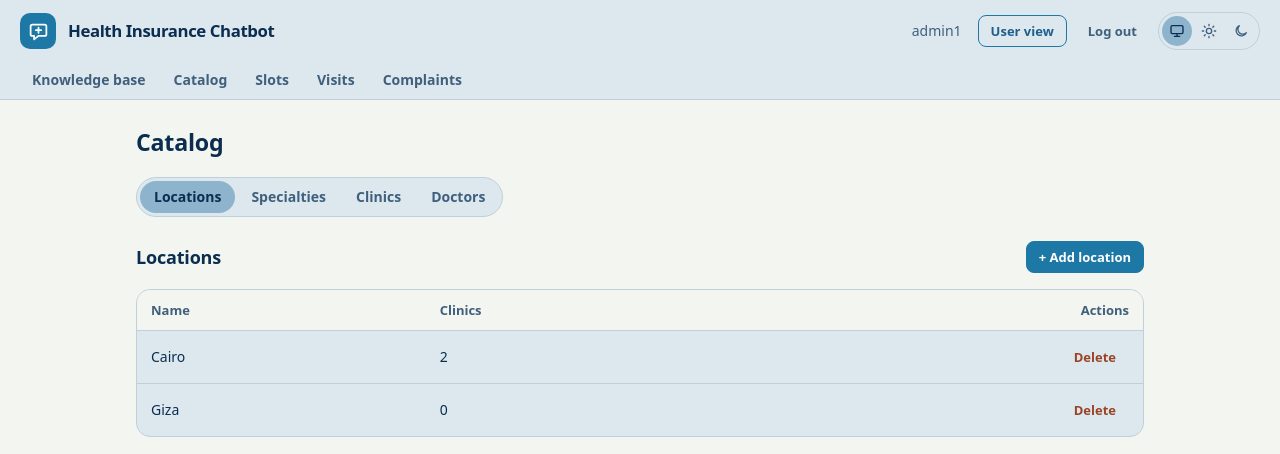
AdminCatalogPage › AP2: the tabs show which catalog list is open
The image size is (1280, 454).
Expected: the table with test id "locations-table" is shown, x1=137 y1=290 x2=1143 y2=436
Click the button with test id "tab-doctors" at (458, 197), box x1=417 y1=181 x2=499 y2=213
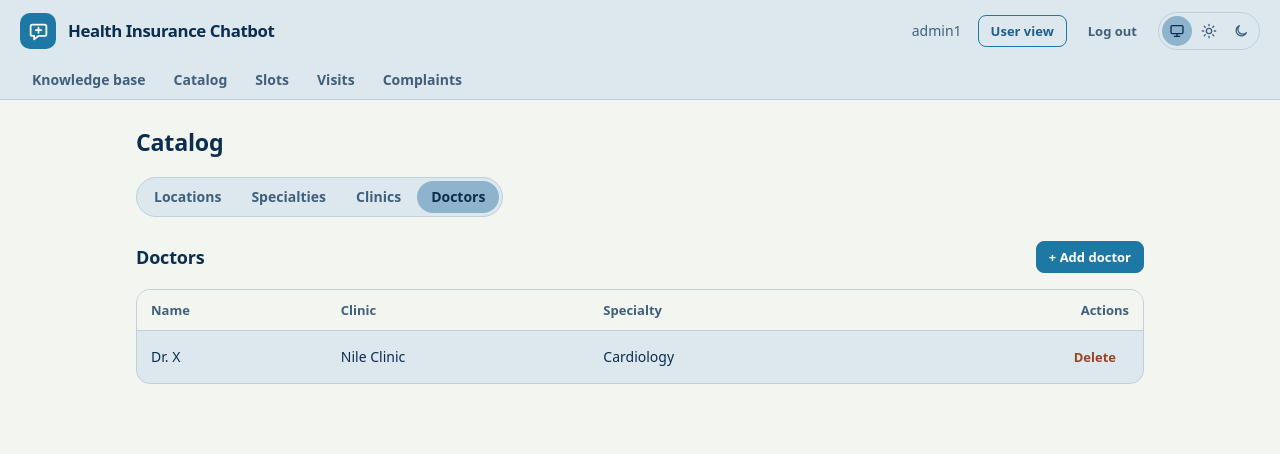
Now the table with test id "doctors-table" is shown, box x1=137 y1=290 x2=1143 y2=383
